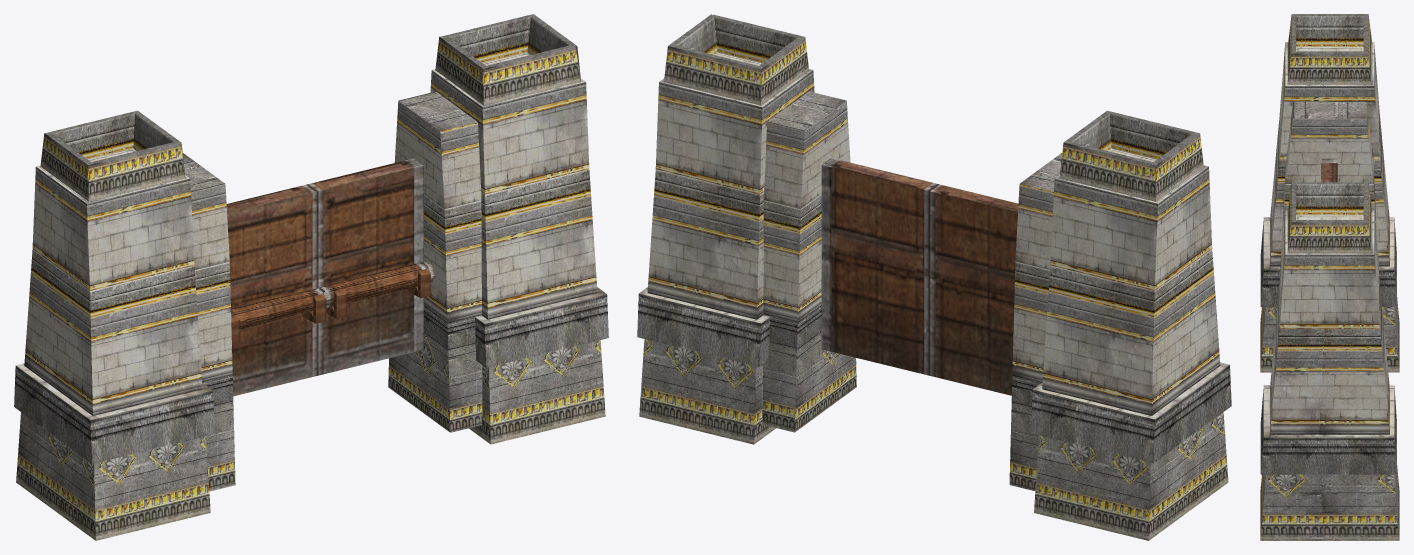
File: idle.glb
The picture shows the model from 3 angles, left to right: view 1: azimuth 30°, elevation 25°; view 2: azimuth 150°, elevation 25°; view 3: azimuth 270°, elevation 25°; orthographic projection. The views are drawn at different scales.
Parts seen in each view (by area): view 1: MeshRoot; view 2: MeshRoot; view 3: MeshRoot.
Boxes of the visible parts, x1=… form: MeshRoot: x1=14, y1=14, x2=608, y2=540; MeshRoot: x1=637, y1=14, x2=1231, y2=540; MeshRoot: x1=1260, y1=14, x2=1399, y2=540.
Size of the model in its own units: 18.56 by 12.36 by 4.97.
Materials: 3 (3 with a texture image).
